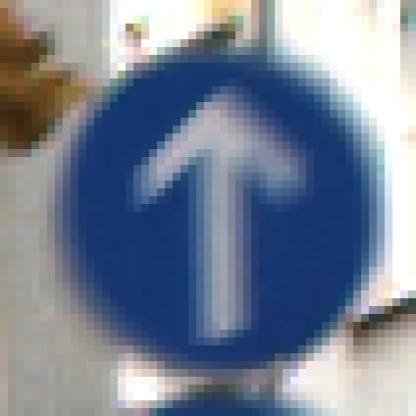AheadOnly: (48, 40, 378, 378)
